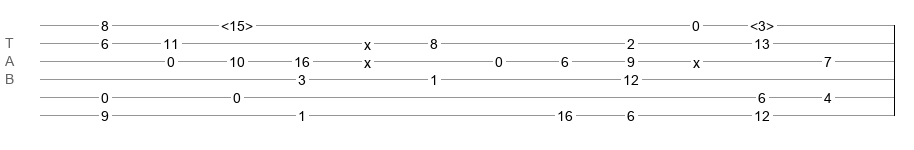0: (101, 90, 109, 100), (167, 54, 175, 64), (233, 90, 241, 100), (495, 54, 503, 64), (692, 18, 700, 28)
1: (298, 108, 306, 118), (430, 72, 438, 82)
10: (229, 54, 245, 64)
11: (163, 36, 179, 46)
12: (623, 72, 639, 82), (754, 108, 770, 118)
13: (754, 36, 770, 46)
16: (294, 54, 310, 64), (557, 108, 573, 118)
2: (627, 36, 635, 46)
3: (298, 72, 306, 82)
4: (824, 90, 832, 100)
6: (101, 36, 109, 46), (561, 54, 569, 64), (627, 108, 635, 118), (758, 90, 766, 100)
7: (824, 54, 832, 64)
8: (101, 18, 109, 28), (430, 36, 438, 46)
9: (101, 108, 109, 118), (627, 54, 635, 64)
harmonic: (221, 18, 253, 28), (750, 18, 774, 28)
x: (364, 55, 371, 63), (364, 37, 371, 45), (693, 55, 700, 63)
